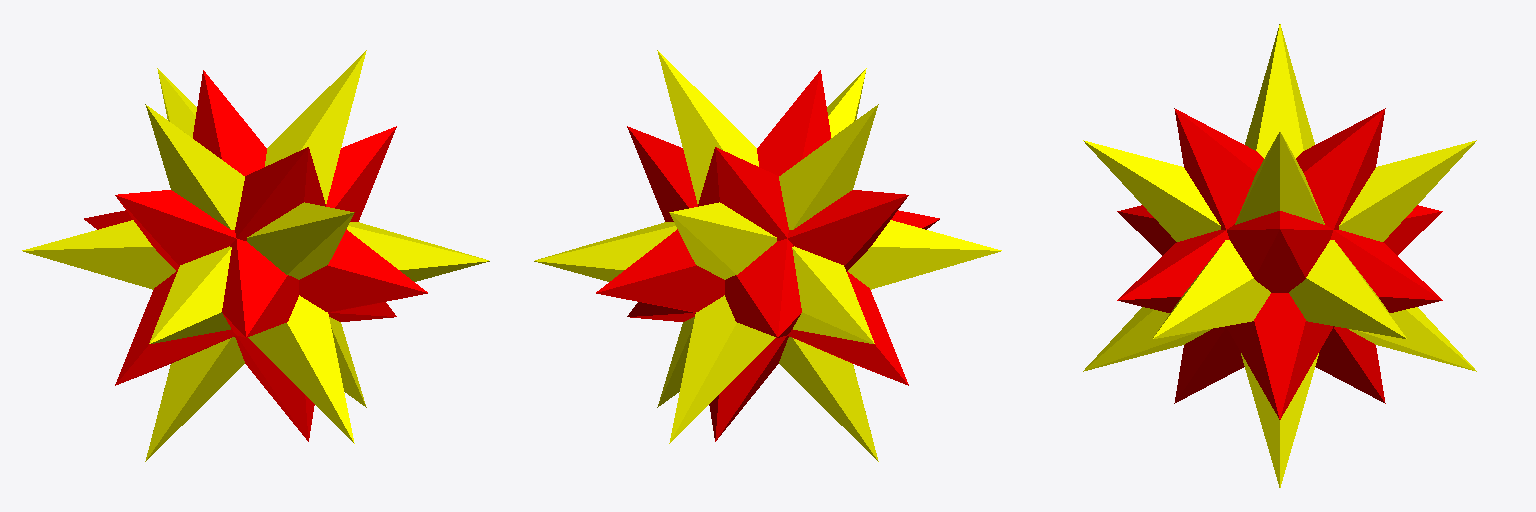
The model's file is explode.obj.
3 views of the same model, side by side, from view 1: azimuth 30°, elevation 25°; view 2: azimuth 150°, elevation 25°; view 3: azimuth 270°, elevation 25° (orthographic).
Visible parts, largest first — view 1: explode_Object001; view 2: explode_Object001; view 3: explode_Object001.
Boxes of the visible parts, x1,y1,x2,y2 form: explode_Object001: [22, 50, 489, 461]; explode_Object001: [534, 50, 1001, 461]; explode_Object001: [1083, 24, 1476, 487].
Bounding box in the file's own units: 1 × 1 × 1.